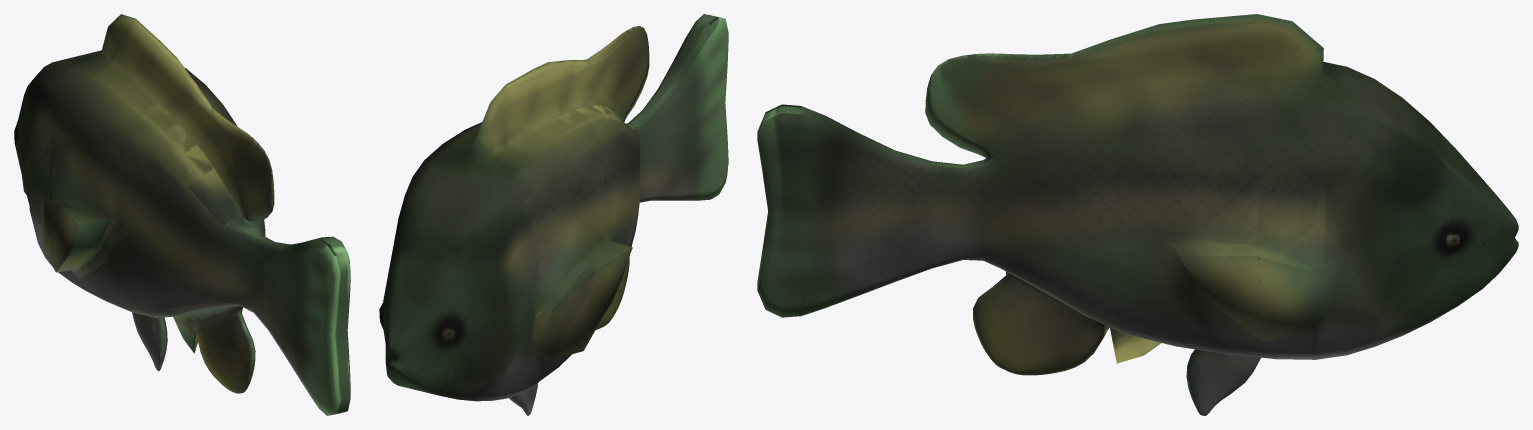
The model's file is perch.glb.
3 views of the same model, side by side, from view 1: azimuth 30°, elevation 25°; view 2: azimuth 150°, elevation 25°; view 3: azimuth 270°, elevation 25° (orthographic). The views are drawn at different scales.
Visible parts, largest first — view 1: Cube; view 2: Cube; view 3: Cube.
Part boxes in pixels (x1,y1,x2,y2): Cube: [14, 14, 350, 415]; Cube: [379, 14, 728, 415]; Cube: [757, 14, 1518, 415].
Bounding box in the file's own units: 0.1337 × 0.2446 × 0.42.
1 material, 1 textured.
